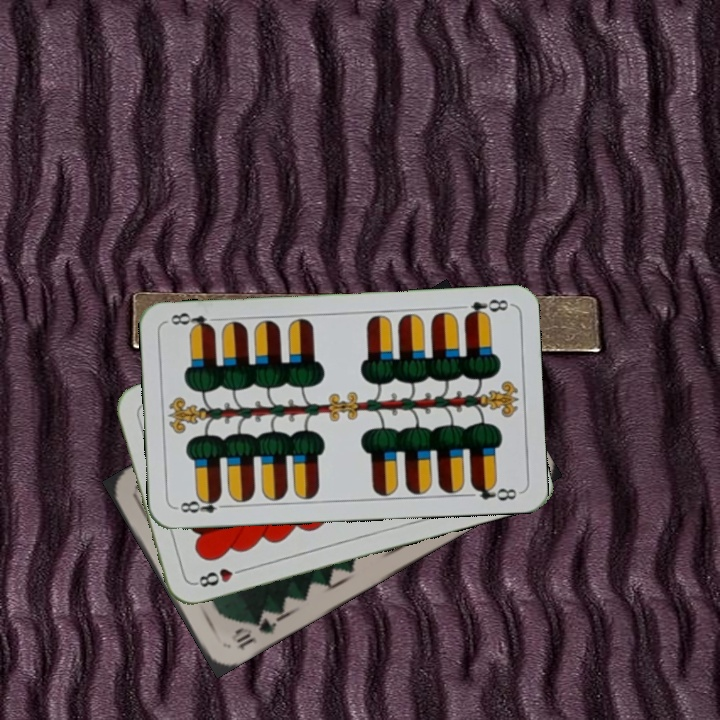E8: (173, 492, 232, 516), (461, 295, 512, 321)
G10: (230, 612, 281, 654)
H8: (191, 564, 249, 590)
